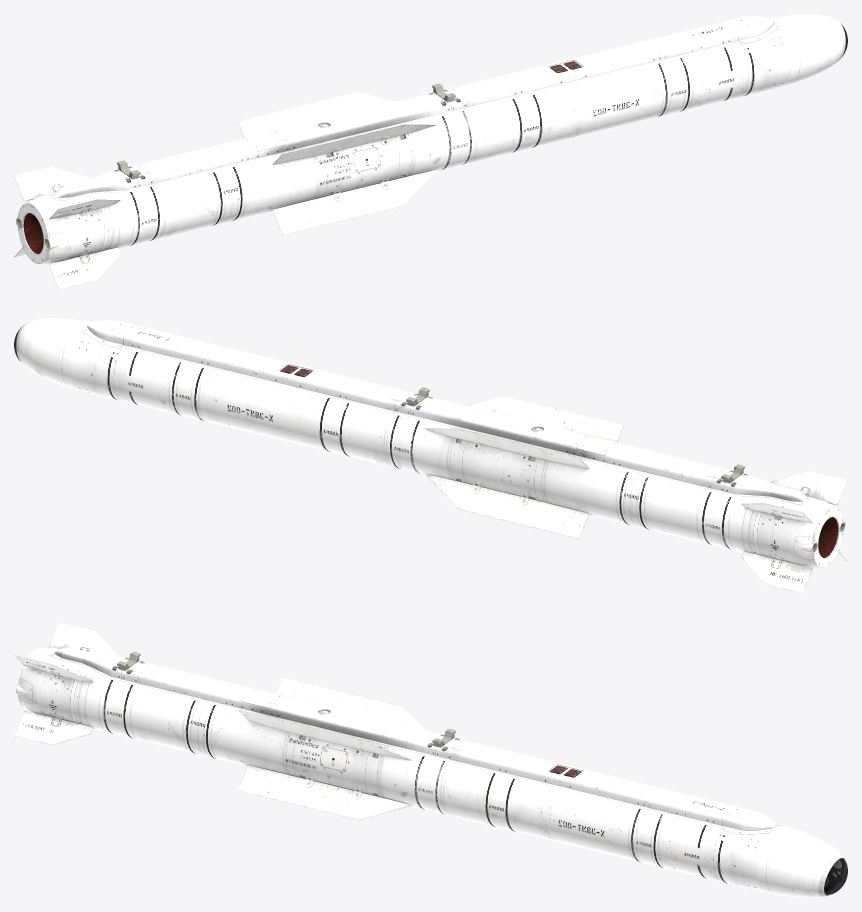
File: missile.glb
3 renders of one model, top to bottom at view 1: azimuth 30°, elevation 25°; view 2: azimuth 150°, elevation 25°; view 3: azimuth 330°, elevation 25°, orthographic.
Visible parts, largest first — view 1: Object_2; view 2: Object_2; view 3: Object_2, Object_3.
Part boxes in pixels (x1,y1,x2,y2): Object_2: (14,14,845,289); Object_2: (16,318,847,593); Object_2: (14,622,845,897); Object_3: (824,858,847,895).
Bounding box in the file's own units: 4.17 × 0.4137 × 0.4002.
Materials: 2 (1 with a texture image).
